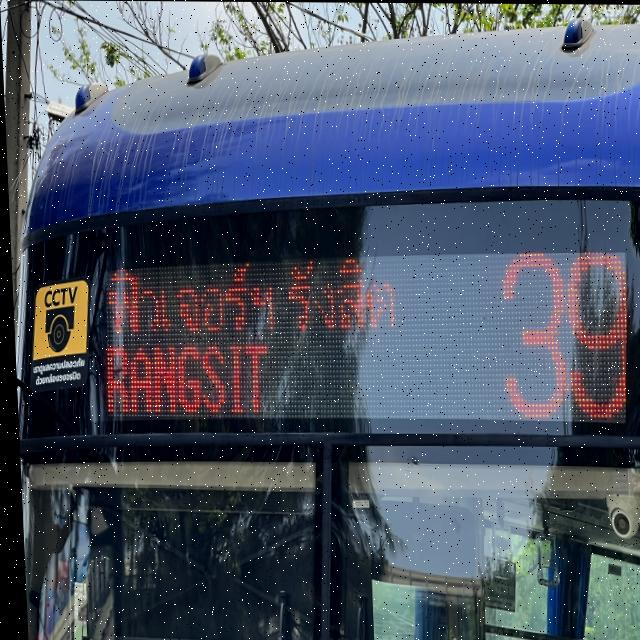Bus-Line-Number: (488, 222, 640, 452)
Destination-Sign-Normal: (89, 238, 436, 428)
TSB-Bus: (1, 15, 640, 640)
